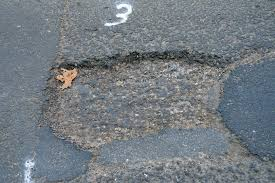pothole: (53, 47, 275, 178)
